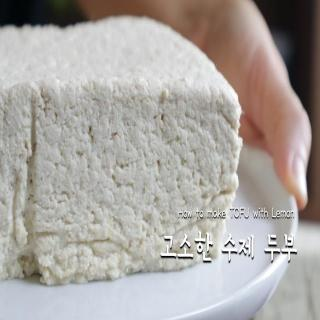Tahu: (1, 13, 244, 293)
